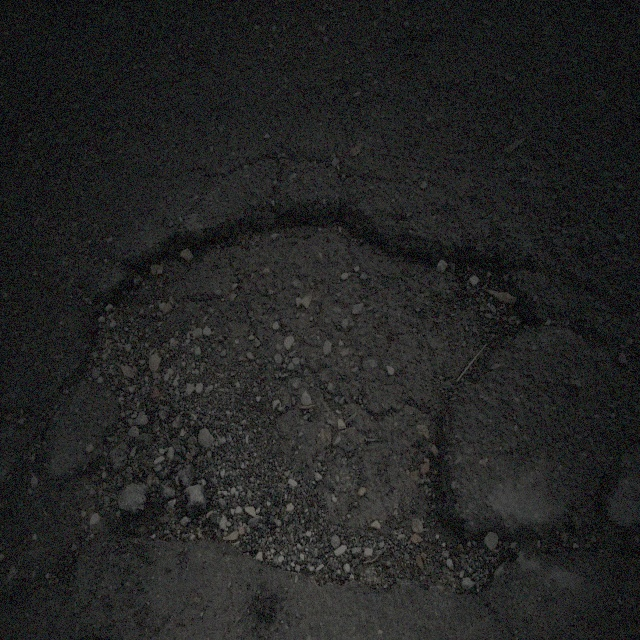pothole: (84, 198, 548, 600)
